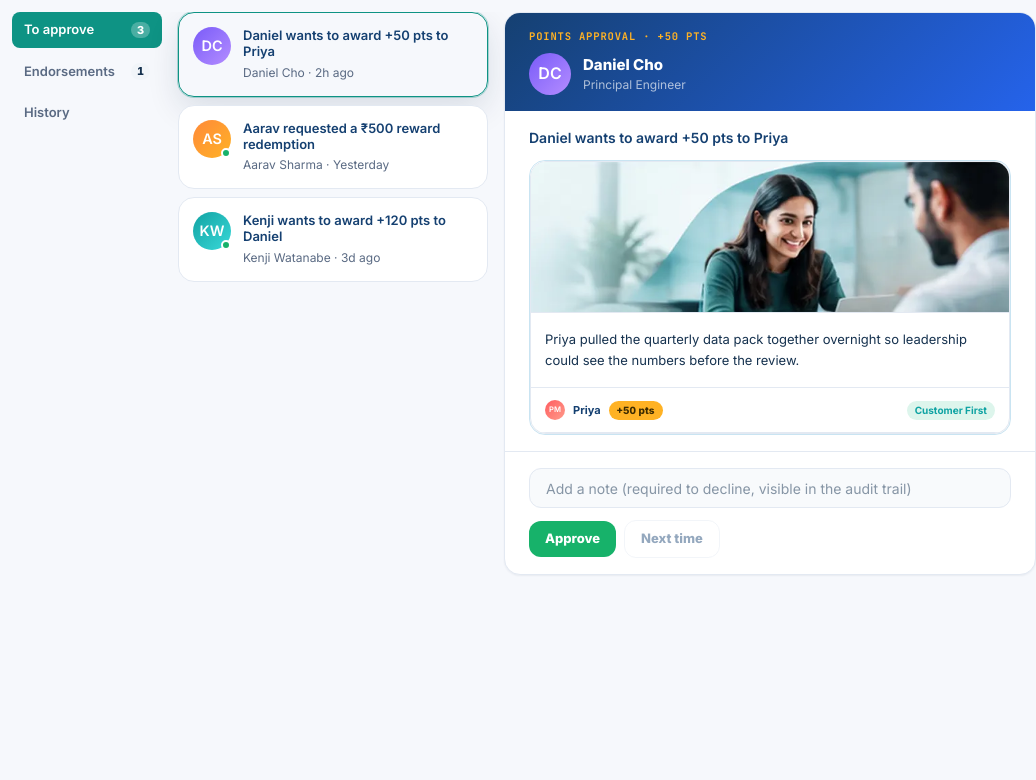
Test: ApprovalsBoard › approval records a verdict and shows the pill
Step 1. Click the button "Approve" → [573, 539], box x1=529 y1=521 x2=616 y2=556
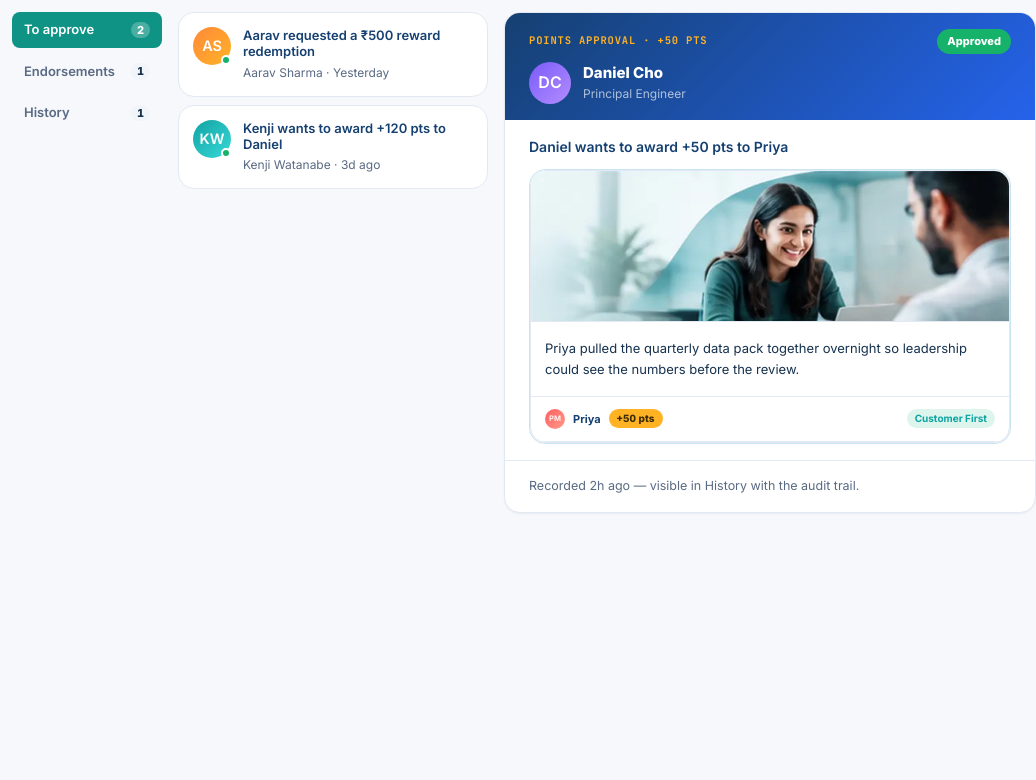
Expected: the text "Approved" is shown, x1=937 y1=29 x2=1011 y2=54
